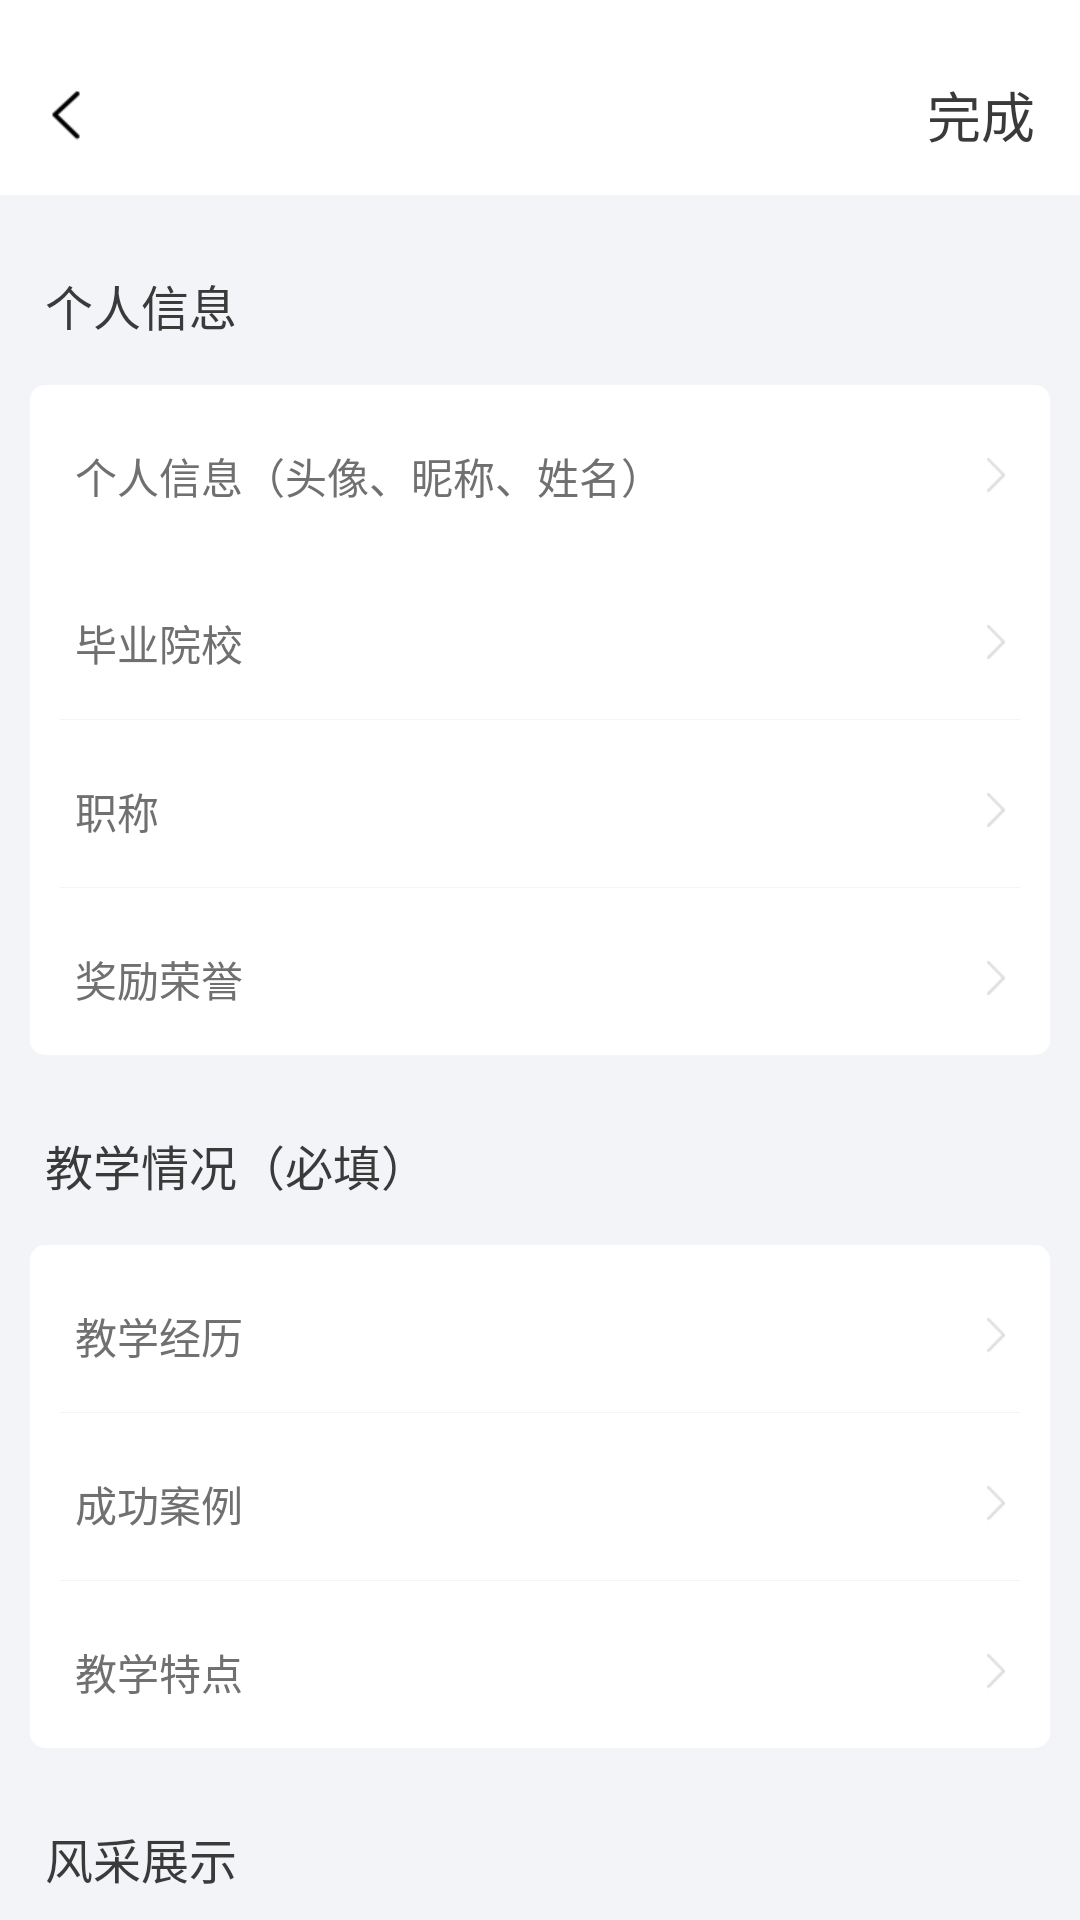

Named icons in this screenshot (1080×1920) and their centers, (x,y):
left: (66,115)
